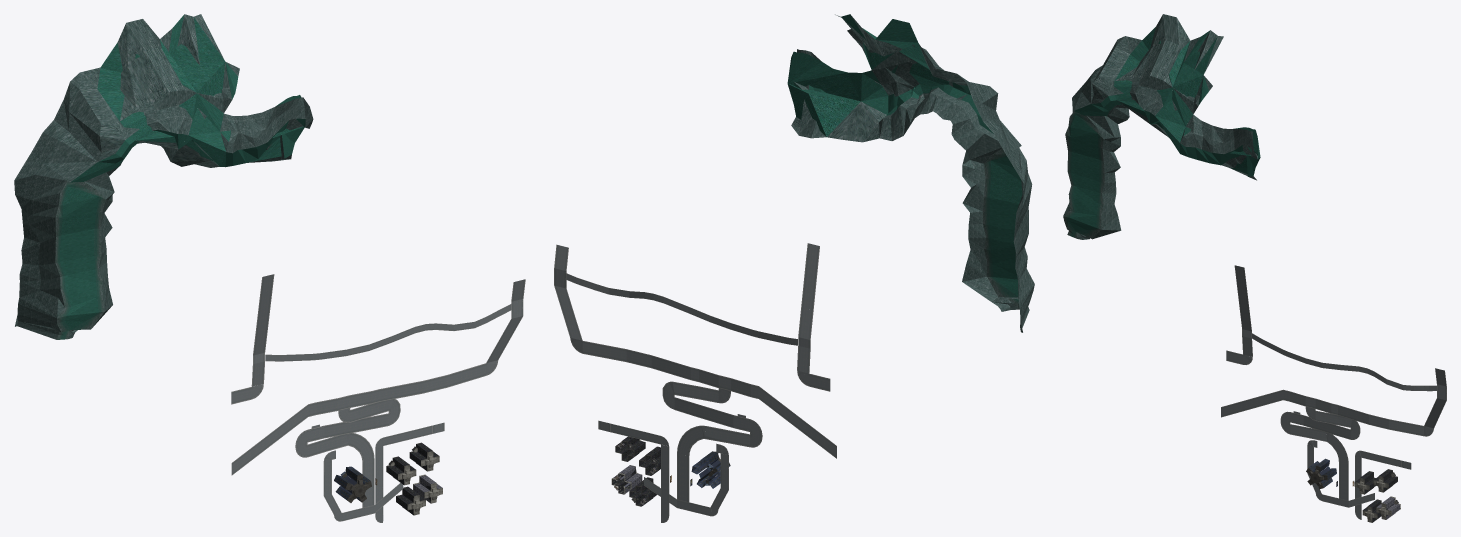
Rendered from landne_landne__part_05.obj.
The picture shows the model from 3 angles, left to right: view 1: azimuth 30°, elevation 25°; view 2: azimuth 150°, elevation 25°; view 3: azimuth 330°, elevation 25°; orthographic projection. The views are drawn at different scales.
Parts seen in each view (by area): view 1: landne_landne__part_05; view 2: landne_landne__part_05; view 3: landne_landne__part_05.
Part boxes in pixels (<box>): landne_landne__part_05: <box>14,14,525,522</box>; landne_landne__part_05: <box>554,14,1034,522</box>; landne_landne__part_05: <box>1063,14,1446,522</box>.
Size of the model in its own units: 1189 by 1303 by 168.
Materials: 96 (96 with a texture image).
